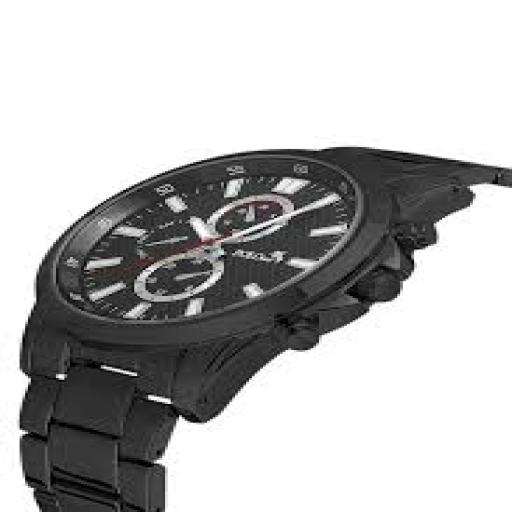KolSaati: (0, 122, 512, 512)
